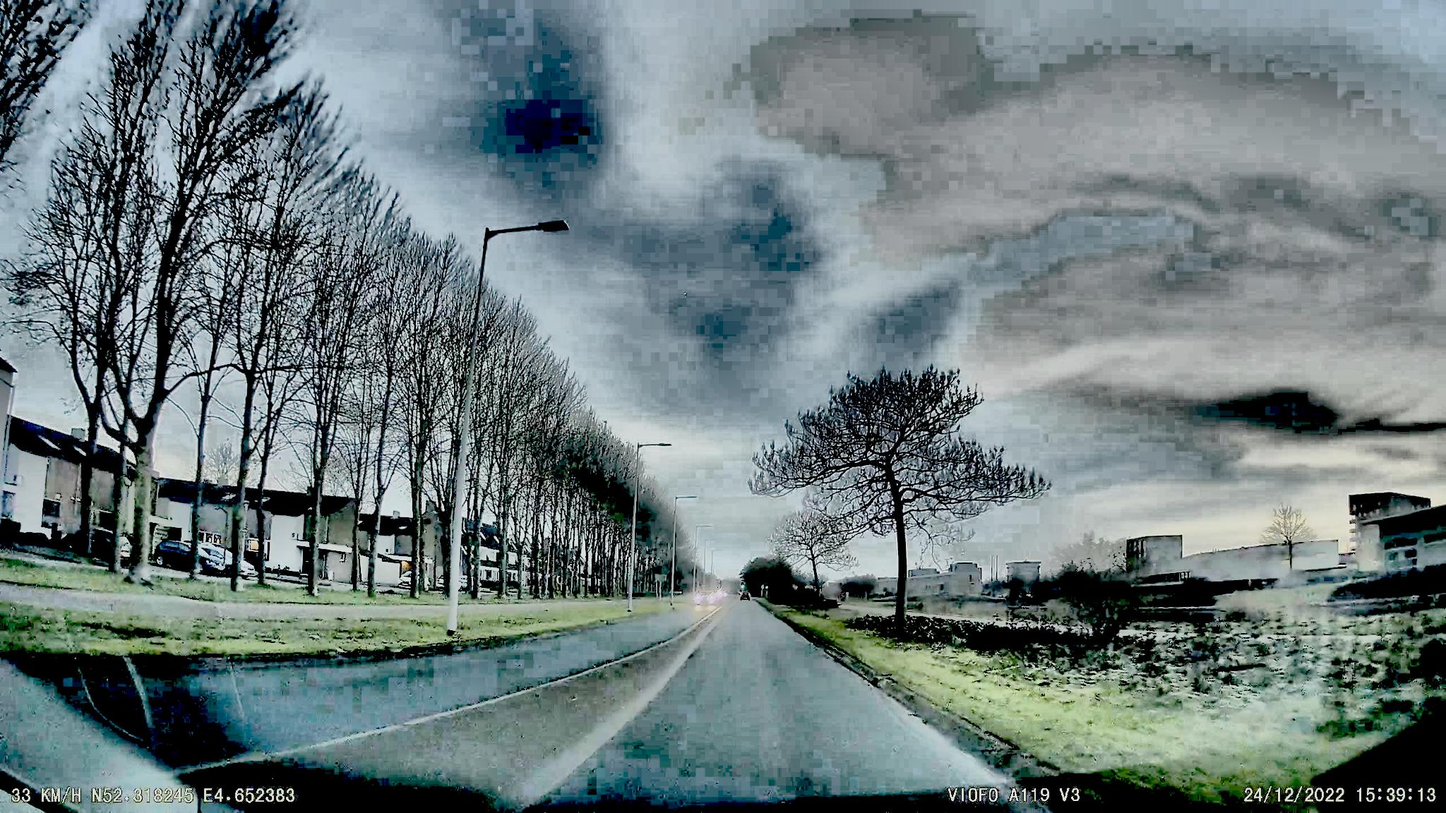Roads: (0, 601, 1137, 813)
